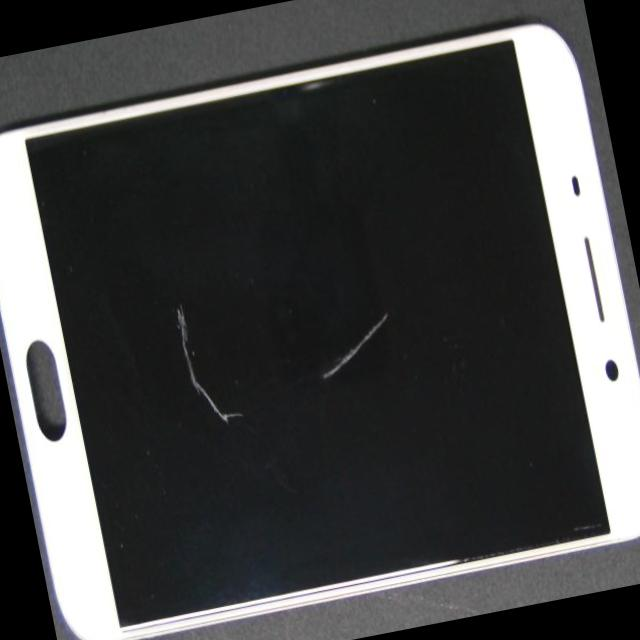scratch: (171, 303, 242, 426), (312, 316, 397, 384), (287, 72, 352, 105)
